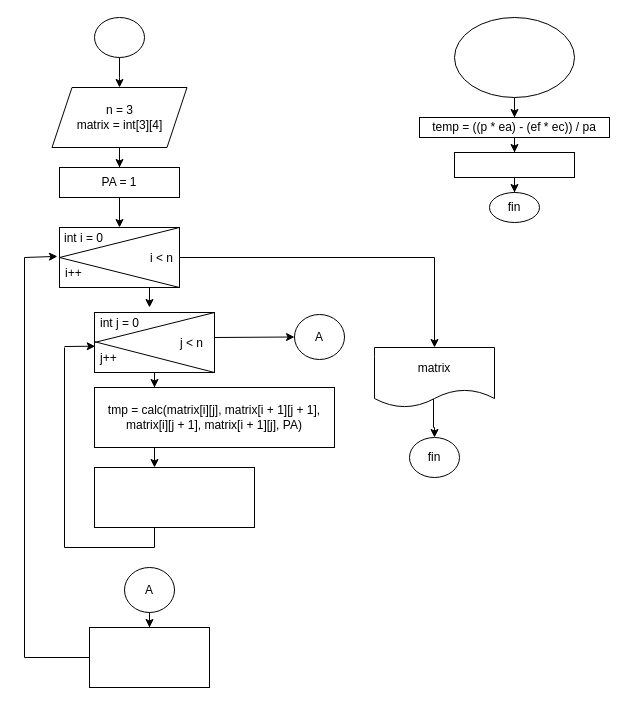
The diagram is 627 pixels wide and 705 high, and some of its shapes have lost their labels. The shapes that lost their labels are listed below. From the top down, each one's centre as x and y in pixels, then its label:
the point at 119,37: Inicio
the point at 514,57: function calc( p, ea, ef, ec, pa)
the point at 514,165: return temp
the point at 174,497: matrix[i + 1][j + 1] = tmp matrix[i + 1[j] = 0 matrix[i + 2][j] = 0
the point at 149,657: PA = matrix[i][i]
